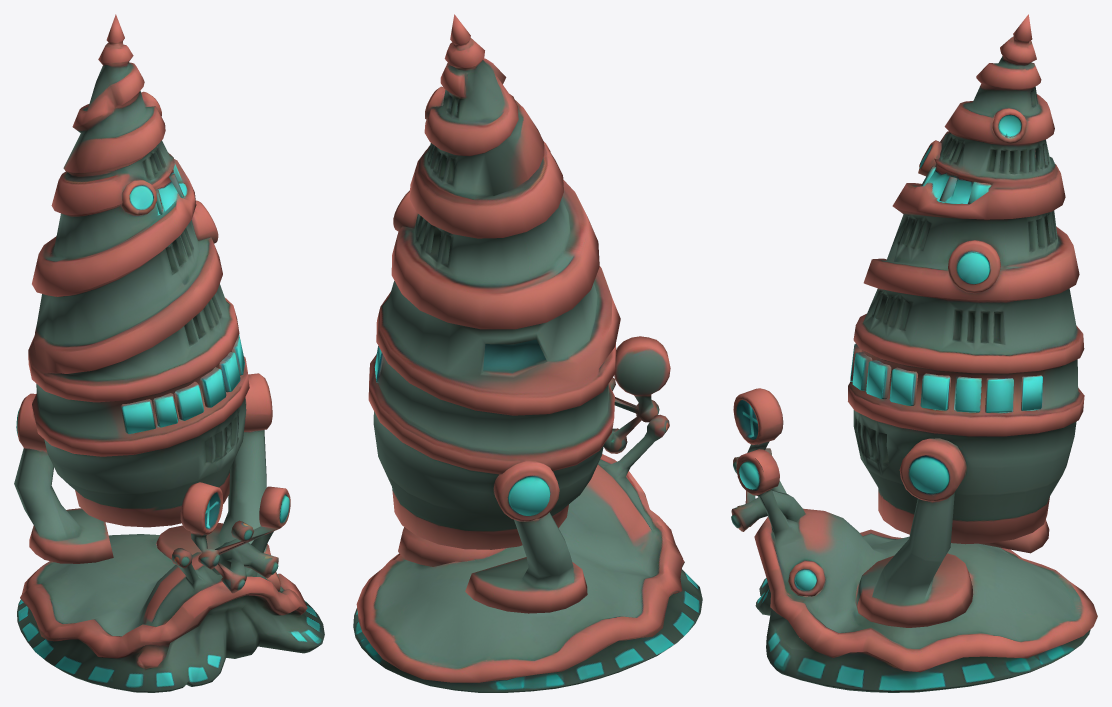
Rendered from water_snail.glb.
3 views of the same model, side by side, from view 1: azimuth 30°, elevation 25°; view 2: azimuth 150°, elevation 25°; view 3: azimuth 270°, elevation 25° (orthographic). The views are drawn at different scales.
Visible parts, largest first — view 1: tripo_node_c0d061c7-33b1-4aee-9cc9-490a68ac1cae; view 2: tripo_node_c0d061c7-33b1-4aee-9cc9-490a68ac1cae; view 3: tripo_node_c0d061c7-33b1-4aee-9cc9-490a68ac1cae.
Boxes of the visible parts, <box> form: tripo_node_c0d061c7-33b1-4aee-9cc9-490a68ac1cae: <box>14,14,324,692</box>; tripo_node_c0d061c7-33b1-4aee-9cc9-490a68ac1cae: <box>353,14,702,692</box>; tripo_node_c0d061c7-33b1-4aee-9cc9-490a68ac1cae: <box>731,14,1097,692</box>.
Bounding box in the file's own units: 0.4683 × 0.9995 × 0.5386.
1 material, 1 textured.
